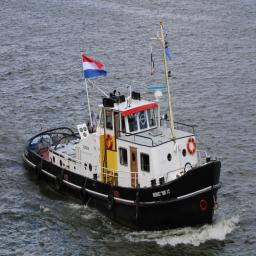tugboat: (22, 51, 225, 242)
